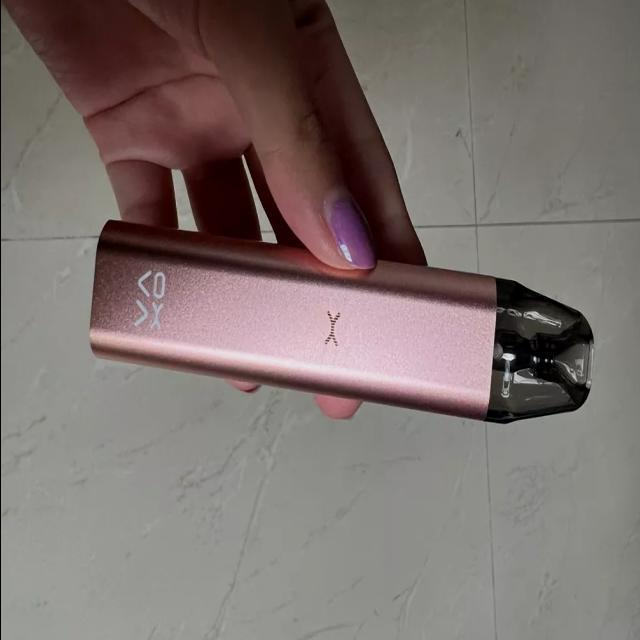Hazard: (86, 215, 595, 426)
